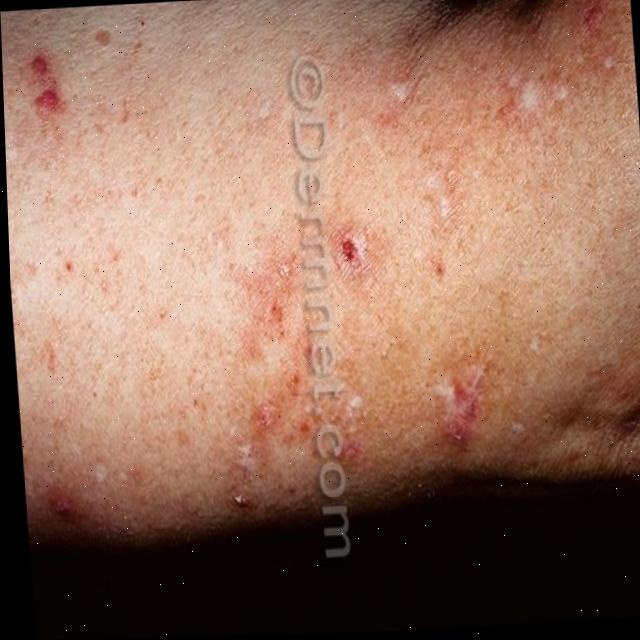Eczema: (172, 29, 640, 551), (32, 59, 69, 124)
